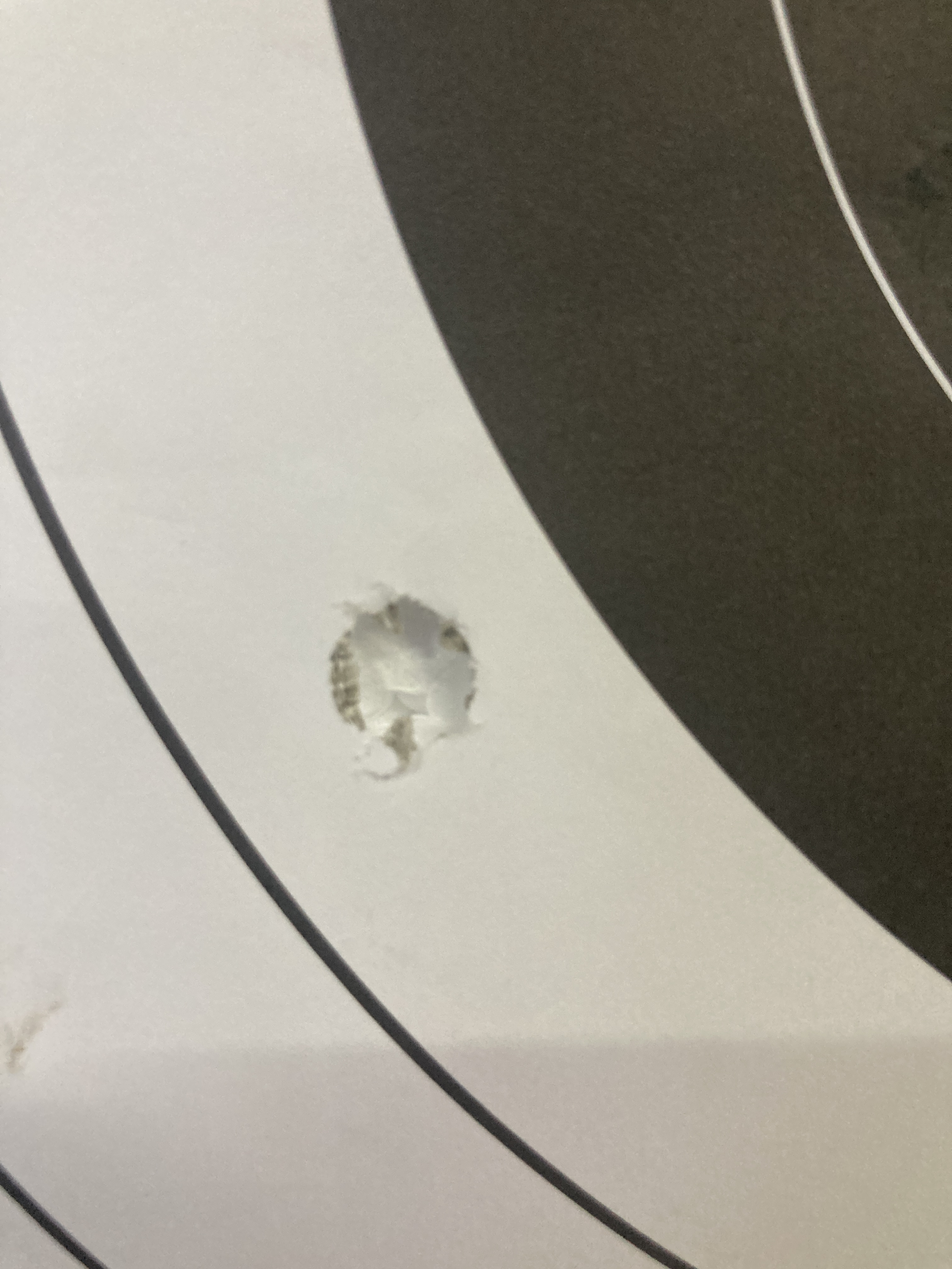hole: (290, 548, 519, 799)
